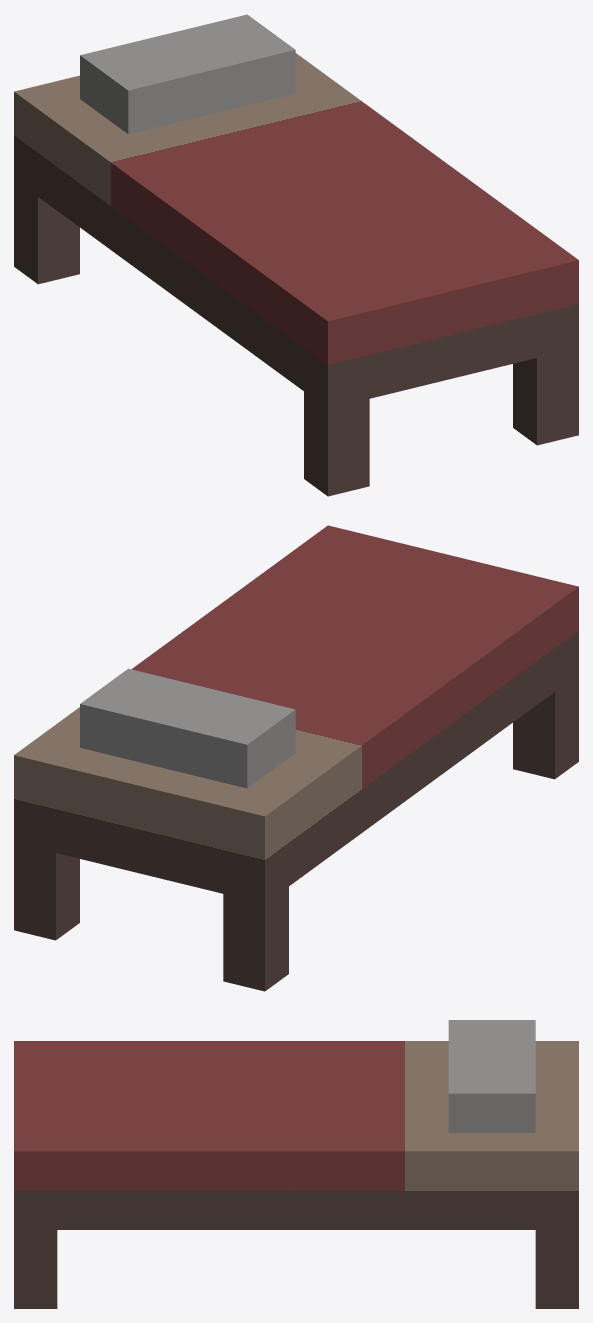
File: bed.fbx
3 views of the same model, one above another, from view 1: azimuth 30°, elevation 25°; view 2: azimuth 150°, elevation 25°; view 3: azimuth 270°, elevation 25° (orthographic). The views are drawn at different scales.
Parts seen in each view (by area): view 1: bed_0; view 2: bed_0; view 3: bed_0.
Boxes of the visible parts, box(x1,y1,x2,y2) form: bed_0: box(14, 14, 578, 496); bed_0: box(14, 525, 578, 991); bed_0: box(14, 1020, 578, 1308).
Bounding box in the file's own units: 600 × 1300 × 500.
